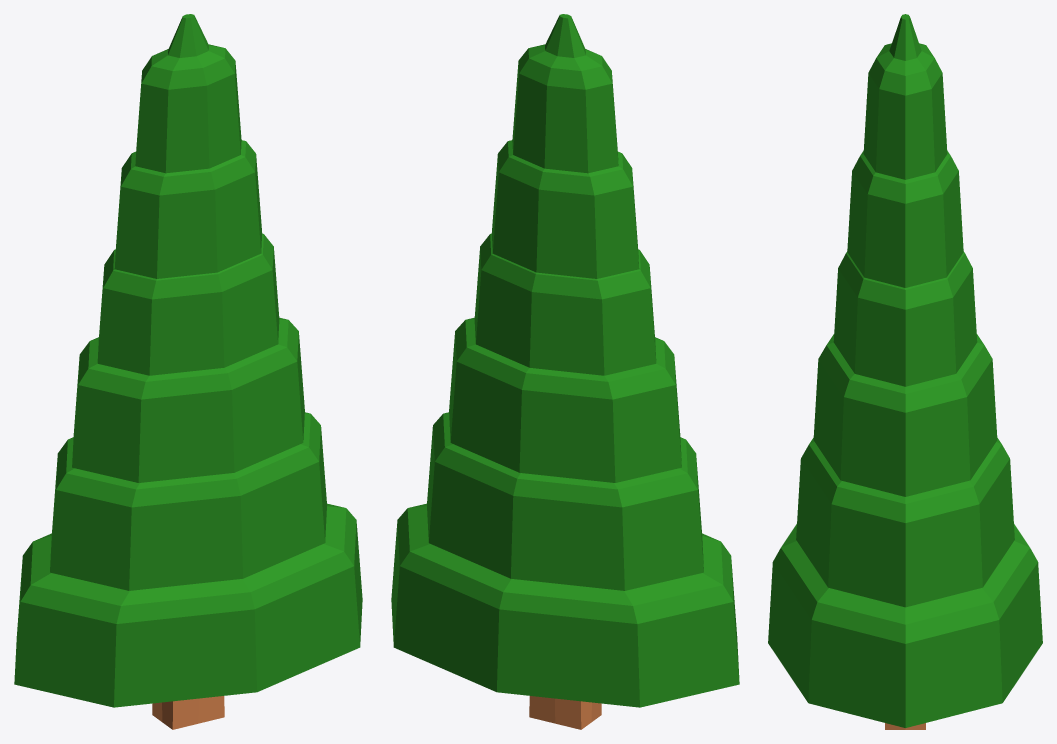
File: BasicTree_v03.fbx
3 views of the same model, side by side, from view 1: azimuth 30°, elevation 25°; view 2: azimuth 150°, elevation 25°; view 3: azimuth 270°, elevation 25° (orthographic).
Parts seen in each view (by area): view 1: Tree; view 2: Tree; view 3: Tree.
Boxes of the visible parts, x1,y1,x2,y2 form: Tree: (14,14,362,729); Tree: (391,14,739,729); Tree: (768,14,1042,729).
Bounding box in the file's own units: 390 × 571 × 1099.
